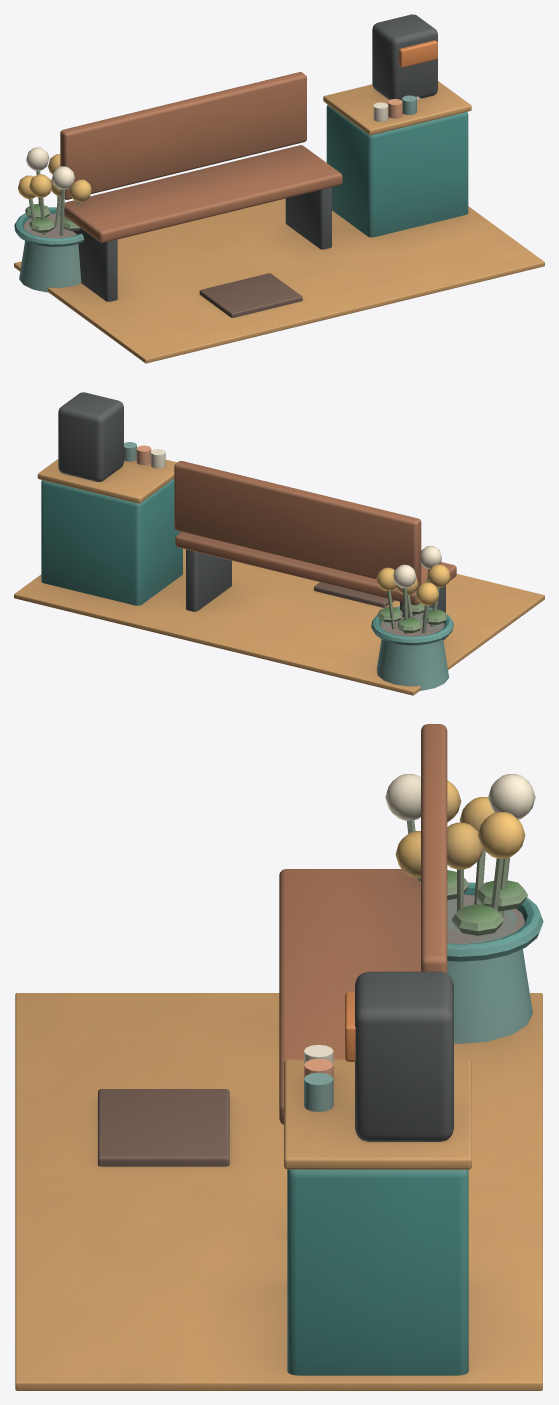
File: BreakCorner.fbx
The picture shows the model from 3 angles, top to bottom: view 1: azimuth 30°, elevation 25°; view 2: azimuth 150°, elevation 25°; view 3: azimuth 270°, elevation 25°; orthographic projection. The views are drawn at different scales.
Visible parts, largest first — view 1: BreakCorner; view 2: BreakCorner; view 3: BreakCorner.
Boxes of the visible parts, left/top/right/bottom form: BreakCorner: left=14, top=14, right=544, bottom=363; BreakCorner: left=14, top=392, right=544, bottom=695; BreakCorner: left=15, top=724, right=543, bottom=1390.
Size of the model in its own units: 290 by 121 by 160.
